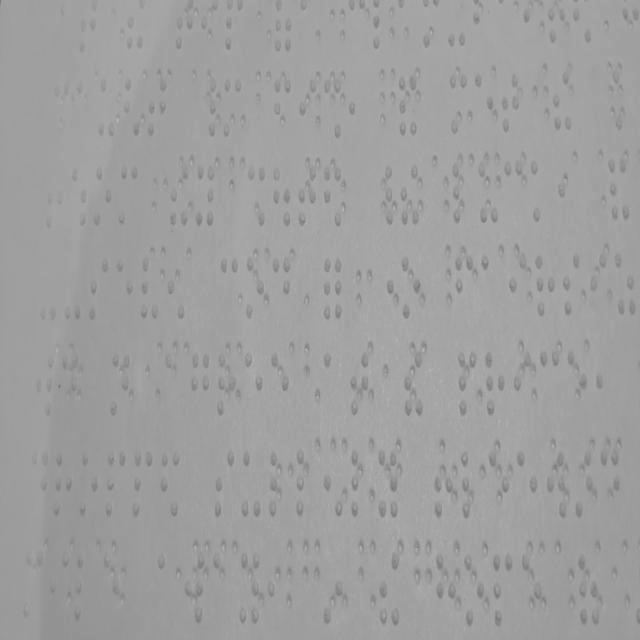braiile: (543, 438, 570, 536), (512, 442, 540, 536), (598, 440, 624, 530), (520, 544, 544, 636), (491, 546, 515, 636), (374, 443, 400, 525), (447, 72, 474, 149), (486, 441, 509, 531), (98, 544, 122, 630), (21, 541, 45, 626), (74, 543, 98, 628), (293, 439, 317, 524), (532, 246, 557, 327), (458, 442, 482, 526), (462, 548, 486, 631), (48, 541, 71, 627), (268, 342, 292, 424), (435, 546, 459, 628), (138, 246, 162, 327), (87, 250, 111, 330), (482, 340, 506, 420), (240, 442, 264, 522), (560, 242, 583, 324), (348, 442, 371, 524), (213, 445, 237, 523), (538, 340, 560, 424), (75, 443, 99, 520), (189, 344, 212, 424), (238, 548, 260, 631), (498, 64, 522, 140), (564, 346, 588, 422), (114, 250, 136, 332), (506, 248, 528, 330), (183, 546, 205, 628), (210, 542, 232, 624), (107, 347, 131, 422), (130, 445, 154, 520), (163, 345, 186, 423), (322, 342, 344, 422), (451, 155, 474, 231), (476, 152, 499, 228), (510, 346, 533, 422), (33, 349, 56, 424), (58, 345, 80, 423), (216, 348, 238, 426), (348, 346, 371, 420), (529, 153, 551, 230), (398, 248, 418, 332), (457, 344, 478, 424), (193, 159, 216, 232), (51, 445, 74, 518), (474, 72, 496, 148), (480, 250, 502, 326), (588, 246, 610, 322), (270, 253, 292, 328), (105, 444, 126, 522), (268, 447, 291, 518), (146, 72, 168, 146), (118, 160, 141, 230), (243, 346, 264, 422), (502, 158, 524, 230), (454, 252, 476, 324), (28, 442, 50, 514), (296, 161, 318, 232), (218, 251, 240, 322), (243, 250, 264, 324), (74, 74, 96, 144), (96, 75, 118, 144), (272, 8, 294, 74), (76, 11, 99, 74), (92, 162, 113, 231), (222, 72, 242, 142), (297, 75, 317, 143), (274, 75, 294, 142), (124, 10, 145, 73), (174, 11, 195, 73), (200, 11, 220, 72), (373, 9, 391, 76), (224, 9, 242, 73)
